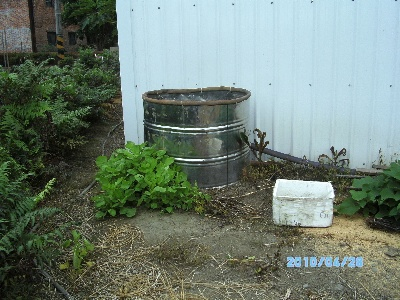bucket: (144, 86, 251, 189)
styrofoam: (272, 178, 335, 228)
